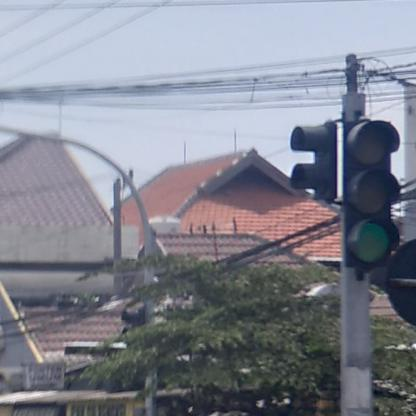green: (342, 121, 400, 268)
